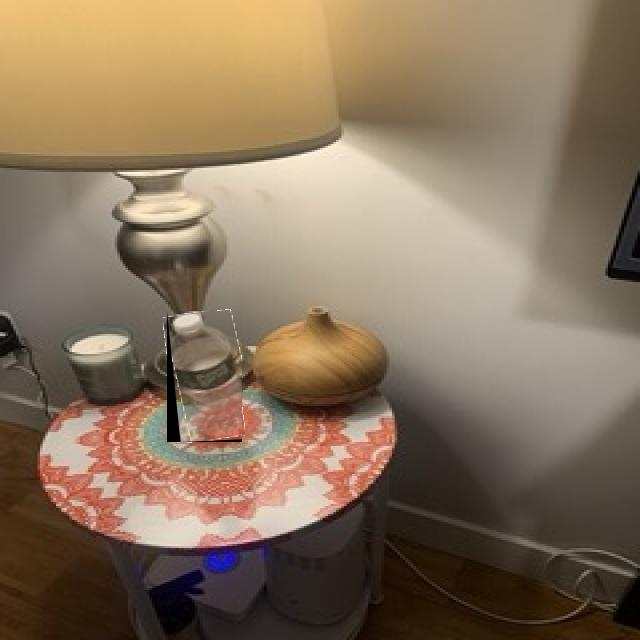water_bottle: (167, 311, 242, 442)
